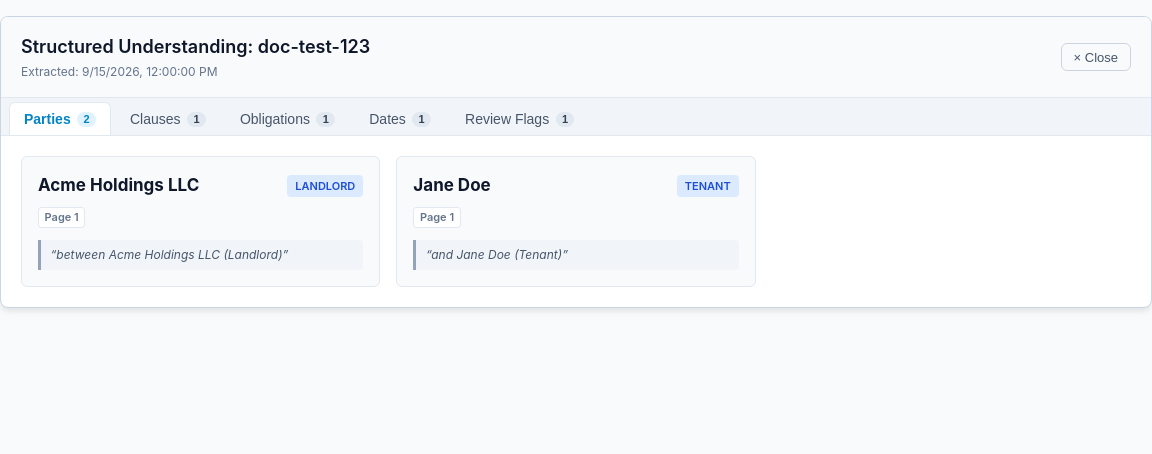
Scenario: DocumentUnderstandingView Component › switches tabs to Review Flags and displays advisory warning banner
Step 1. Click the tab "Review Flags 1" → [520, 119], box x1=450 y1=102 x2=589 y2=135
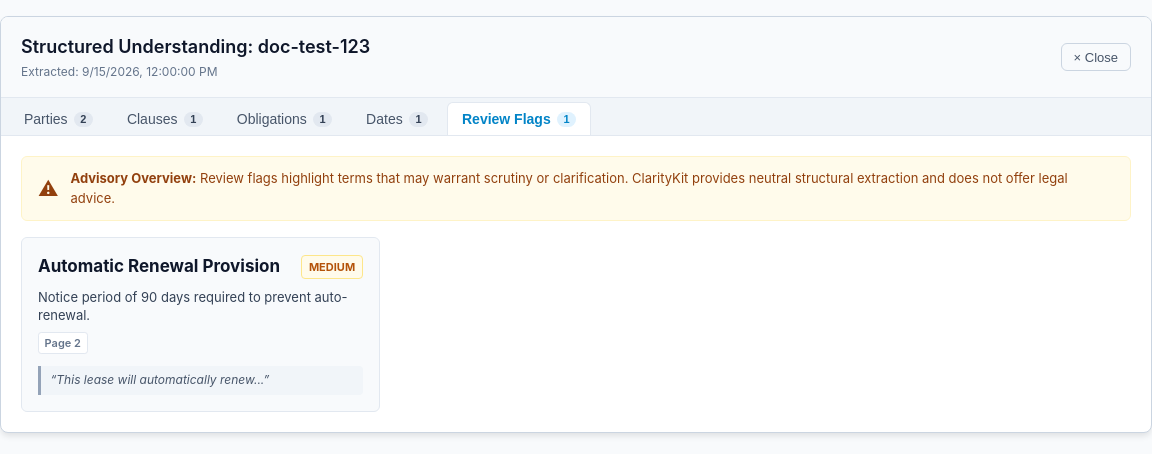
Expected: the heading "Automatic Renewal Provision" is shown, x1=38 y1=254 x2=280 y2=280
Expected: the text "MEDIUM" is shown, x1=301 y1=255 x2=363 y2=279
Expected: the text "ClarityKit provides neutral structural extraction" is shown, x1=70 y1=170 x2=1068 y2=206
